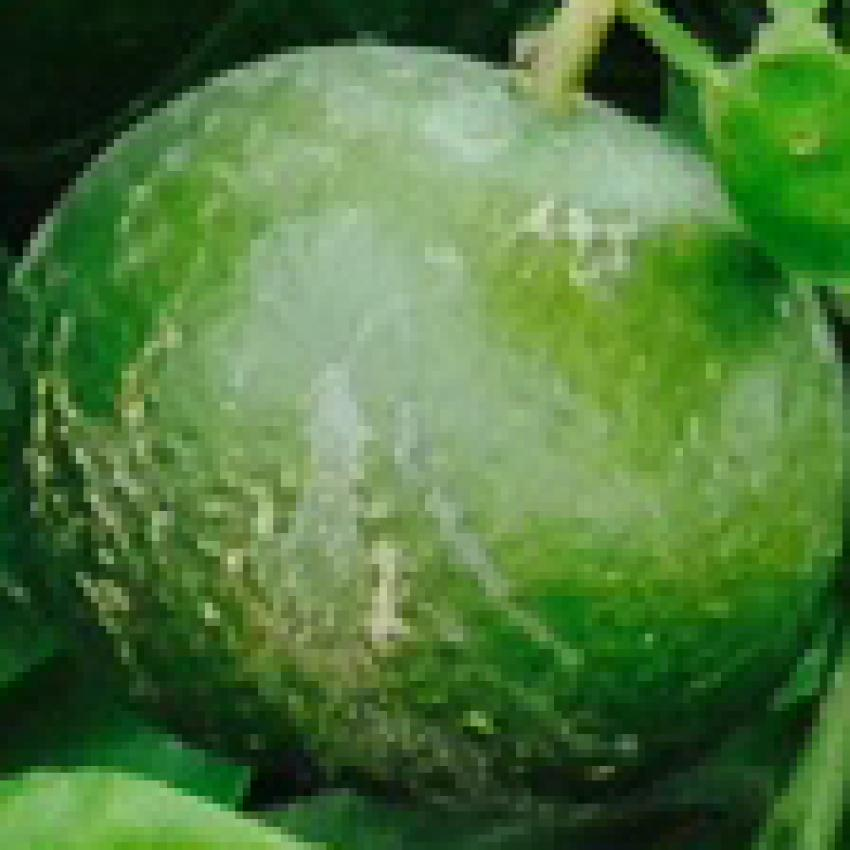Mal estado: (1, 8, 836, 799)
